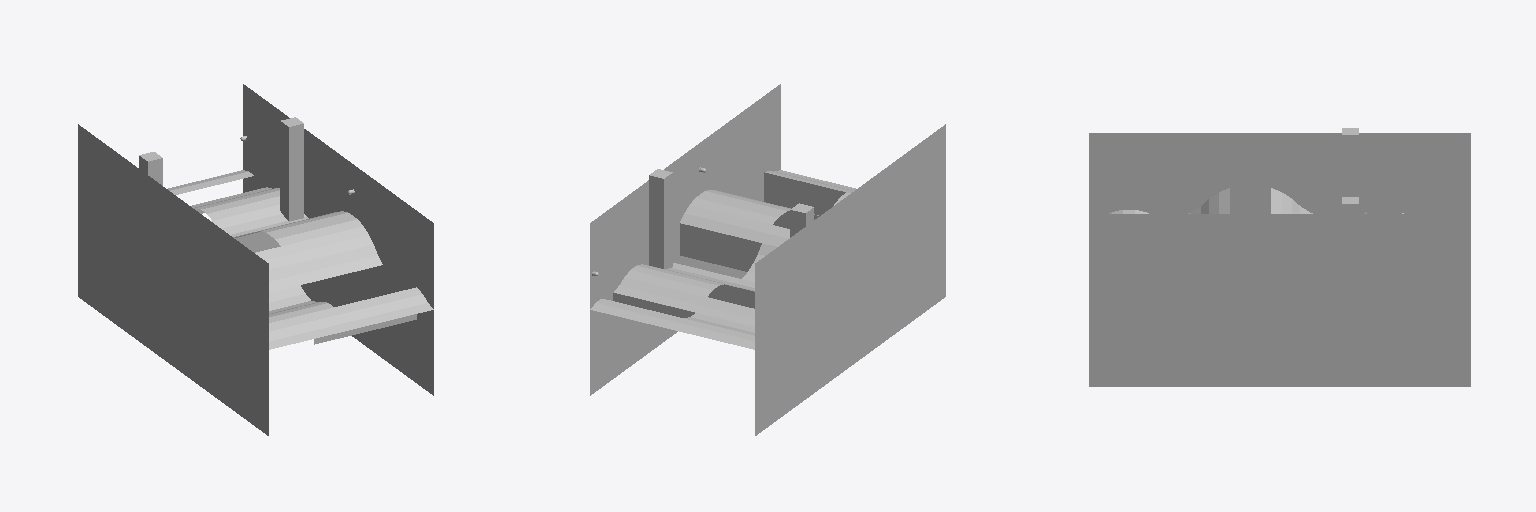
File: Room_SimpleRamp_2.obj
The picture shows the model from 3 angles: view 1: azimuth 30°, elevation 25°; view 2: azimuth 150°, elevation 25°; view 3: azimuth 270°, elevation 25°; orthographic projection.
Parts seen in each view (by area): view 1: Factory_Wall_16x8, Factory_Floor_8x1, MetalRigg001, Factory_Floor_Wall_2x1, Factory_Floor_8x1.54x1; view 2: Factory_Wall_16x8, Factory_Floor_8x1, Factory_Floor_Wall_2x1, MetalRigg001, Factory_Floor_8x1.54x1; view 3: Factory_Wall_16x8, MetalRigg001, Factory_Floor_8x1.
Boxes of the visible parts, x1,y1,x2,y2 form: Factory_Wall_16x8: [78, 84, 433, 435]; Factory_Floor_8x1: [168, 170, 433, 349]; MetalRigg001: [139, 117, 303, 221]; Factory_Floor_Wall_2x1: [194, 208, 416, 344]; Factory_Floor_8x1.54x1: [267, 213, 356, 238]; Factory_Wall_16x8: [590, 84, 945, 435]; Factory_Floor_8x1: [590, 170, 855, 349]; Factory_Floor_Wall_2x1: [613, 172, 845, 317]; MetalRigg001: [649, 169, 813, 268]; Factory_Floor_8x1.54x1: [696, 191, 786, 217]; Factory_Wall_16x8: [1089, 133, 1470, 386]; MetalRigg001: [1342, 128, 1358, 213]; Factory_Floor_8x1: [1109, 188, 1403, 213].
Bounding box in the file's own units: 16.01 × 16.75 × 32.